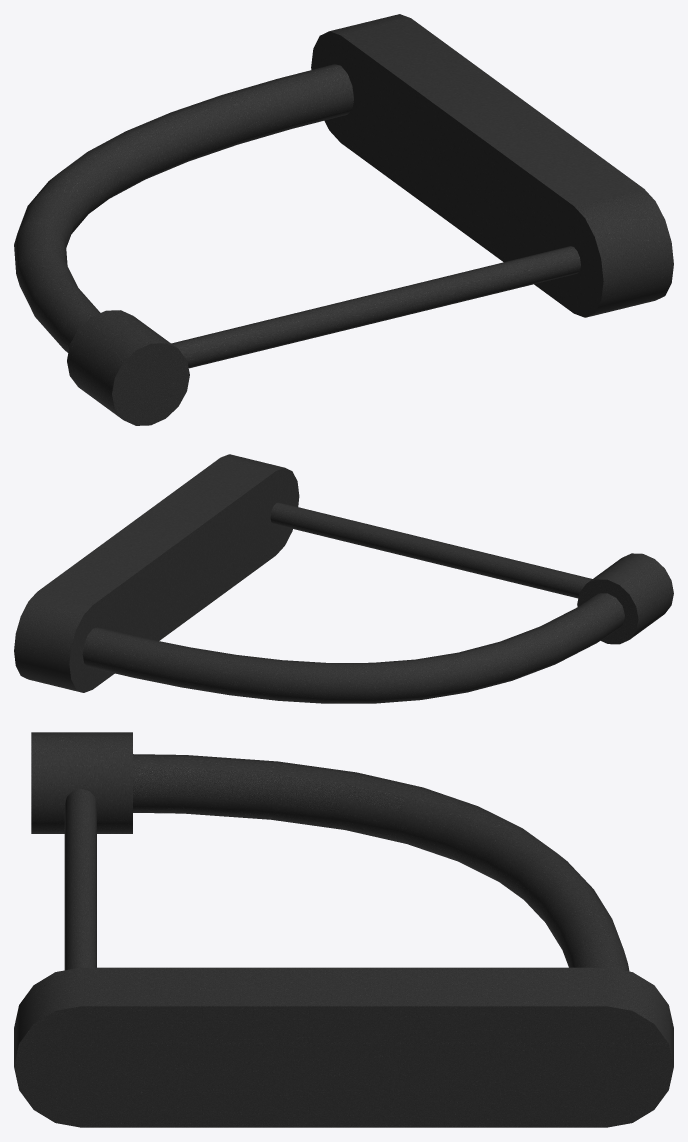
The model's file is Alte_Stadt_x500_y0.obj.
3 views of the same model, one above another, from view 1: azimuth 30°, elevation 25°; view 2: azimuth 150°, elevation 25°; view 3: azimuth 270°, elevation 25° (orthographic). The views are drawn at different scales.
Visible parts, largest first — view 1: Cylinder.003, BezierCurve.009, BezierCurve.008, Cylinder.004; view 2: Cylinder.003, BezierCurve.009, BezierCurve.008, Cylinder.004; view 3: Cylinder.003, BezierCurve.009, Cylinder.004, BezierCurve.008.
Part boxes in pixels (left/top/right/bottom): Cylinder.003: left=311, top=14, right=673, bottom=317; BezierCurve.009: left=14, top=64, right=353, bottom=352; BezierCurve.008: left=171, top=246, right=580, bottom=368; Cylinder.004: left=67, top=310, right=189, bottom=425; Cylinder.003: left=14, top=454, right=299, bottom=692; BezierCurve.009: left=82, top=593, right=624, bottom=703; BezierCurve.008: left=270, top=502, right=592, bottom=598; Cylinder.004: left=577, top=553, right=673, bottom=644; Cylinder.003: left=14, top=967, right=673, bottom=1127; BezierCurve.009: left=133, top=754, right=629, bottom=971; Cylinder.004: left=31, top=732, right=132, bottom=833; BezierCurve.008: left=64, top=789, right=96, bottom=970.
Size of the model in its own units: 0.5395 by 0.1 by 0.4929.
1 material, 1 textured.
